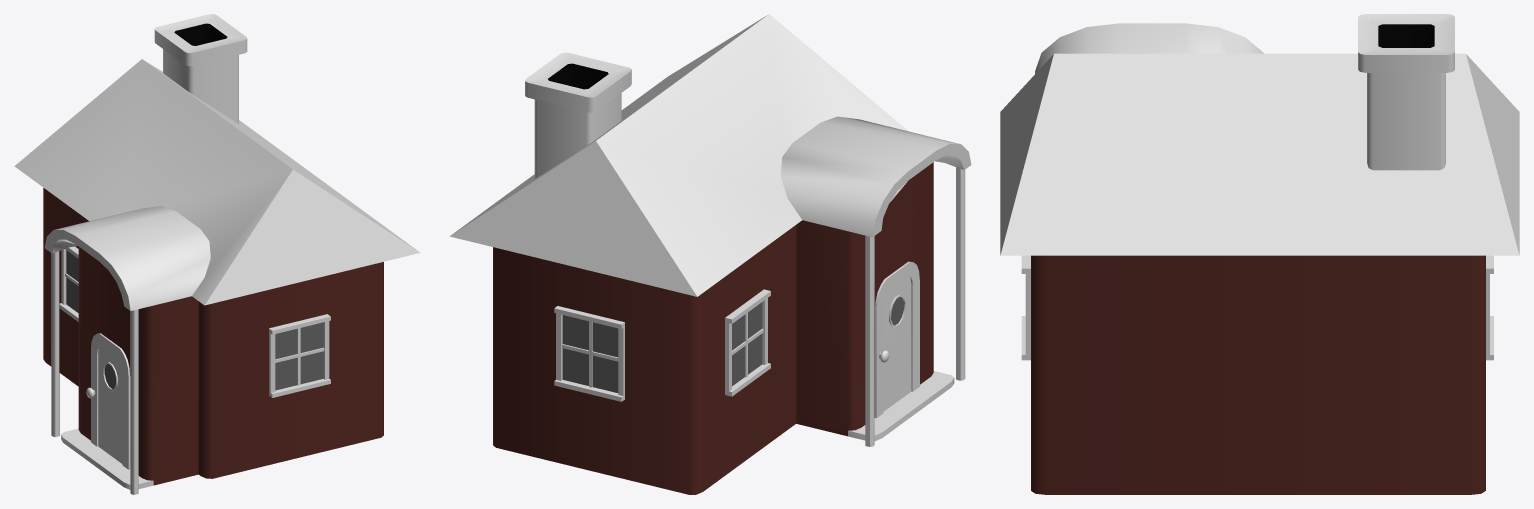
File: Irenes_House.fbx
The picture shows the model from 3 angles, left to right: view 1: azimuth 30°, elevation 25°; view 2: azimuth 150°, elevation 25°; view 3: azimuth 270°, elevation 25°; orthographic projection. The views are drawn at different scales.
Parts seen in each view (by area): view 1: Irene House, Chimney; view 2: Irene House, Chimney; view 3: Irene House, Chimney.
Boxes of the visible parts, left/top/right/bottom form: Irene House: left=14, top=59, right=420, bottom=494; Chimney: left=154, top=14, right=247, bottom=123; Irene House: left=449, top=14, right=971, bottom=494; Chimney: left=525, top=52, right=631, bottom=178; Irene House: left=1000, top=23, right=1519, bottom=494; Chimney: left=1358, top=14, right=1454, bottom=170.
Size of the model in its own units: 6.49 by 7.71 by 7.02.
